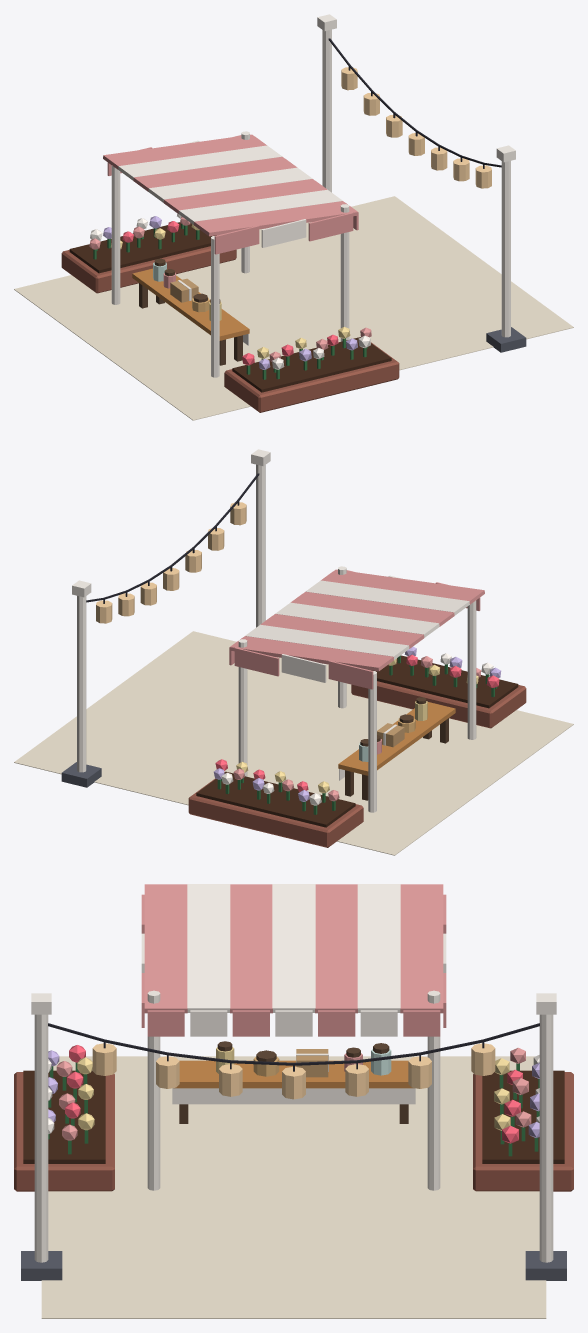
The model's file is CatCafe_Camp_Neighbourhood_Growth.glb.
3 renders of one model, top to bottom at view 1: azimuth 30°, elevation 25°; view 2: azimuth 150°, elevation 25°; view 3: azimuth 270°, elevation 25°, orthographic. The views are drawn at different scales.
Parts seen in each view (by area): view 1: CatCafe_Camp_Neighbourhood_Growth, CatCafe_Camp_Neighbourhood_Growth_000_Stall, CatCafe_Camp_Neighbourhood_Growth_002_FlowerBed, CatCafe_Camp_Neighbourhood_Growth_003_FlowerBed, CatCafe_Camp_Neighbourhood_Growth_001_Lanterns, CatCafe_Camp_Neighbourhood_Growth_001_Lanterns_Bulbs, CatCafe_Camp_Neighbourhood_Growth_002_FlowerBed_Decor, CatCafe_Camp_Neighbourhood_Growth_003_FlowerBed_Decor, CatCafe_Camp_Neighbourhood_Growth_000_Stall_Decor, CatCafe_Camp_Neighbourhood_Growth_001_Lanterns_Decor; view 2: CatCafe_Camp_Neighbourhood_Growth, CatCafe_Camp_Neighbourhood_Growth_000_Stall, CatCafe_Camp_Neighbourhood_Growth_003_FlowerBed, CatCafe_Camp_Neighbourhood_Growth_002_FlowerBed, CatCafe_Camp_Neighbourhood_Growth_001_Lanterns, CatCafe_Camp_Neighbourhood_Growth_001_Lanterns_Bulbs, CatCafe_Camp_Neighbourhood_Growth_003_FlowerBed_Decor, CatCafe_Camp_Neighbourhood_Growth_002_FlowerBed_Decor, CatCafe_Camp_Neighbourhood_Growth_000_Stall_Decor, CatCafe_Camp_Neighbourhood_Growth_001_Lanterns_Decor; view 3: CatCafe_Camp_Neighbourhood_Growth, CatCafe_Camp_Neighbourhood_Growth_000_Stall, CatCafe_Camp_Neighbourhood_Growth_001_Lanterns, CatCafe_Camp_Neighbourhood_Growth_002_FlowerBed, CatCafe_Camp_Neighbourhood_Growth_003_FlowerBed, CatCafe_Camp_Neighbourhood_Growth_001_Lanterns_Bulbs, CatCafe_Camp_Neighbourhood_Growth_003_FlowerBed_Decor, CatCafe_Camp_Neighbourhood_Growth_002_FlowerBed_Decor, CatCafe_Camp_Neighbourhood_Growth_000_Stall_Decor, CatCafe_Camp_Neighbourhood_Growth_001_Lanterns_Decor.
Part boxes in pixels (x1=…): CatCafe_Camp_Neighbourhood_Growth: x1=14, y1=196, x2=573, y2=420; CatCafe_Camp_Neighbourhood_Growth_000_Stall: x1=103, y1=131, x2=358, y2=377; CatCafe_Camp_Neighbourhood_Growth_002_FlowerBed: x1=224, y1=337, x2=399, y2=412; CatCafe_Camp_Neighbourhood_Growth_003_FlowerBed: x1=61, y1=222, x2=236, y2=293; CatCafe_Camp_Neighbourhood_Growth_001_Lanterns: x1=317, y1=14, x2=526, y2=352; CatCafe_Camp_Neighbourhood_Growth_001_Lanterns_Bulbs: x1=341, y1=67, x2=491, y2=188; CatCafe_Camp_Neighbourhood_Growth_002_FlowerBed_Decor: x1=242, y1=326, x2=371, y2=379; CatCafe_Camp_Neighbourhood_Growth_003_FlowerBed_Decor: x1=89, y1=213, x2=199, y2=259; CatCafe_Camp_Neighbourhood_Growth_000_Stall_Decor: x1=153, y1=258, x2=221, y2=320; CatCafe_Camp_Neighbourhood_Growth_001_Lanterns_Decor: x1=328, y1=38, x2=501, y2=168; CatCafe_Camp_Neighbourhood_Growth: x1=14, y1=631, x2=573, y2=855; CatCafe_Camp_Neighbourhood_Growth_000_Stall: x1=229, y1=566, x2=484, y2=812; CatCafe_Camp_Neighbourhood_Growth_003_FlowerBed: x1=188, y1=771, x2=363, y2=847; CatCafe_Camp_Neighbourhood_Growth_002_FlowerBed: x1=351, y1=655, x2=526, y2=728; CatCafe_Camp_Neighbourhood_Growth_001_Lanterns: x1=61, y1=449, x2=270, y2=787; CatCafe_Camp_Neighbourhood_Growth_001_Lanterns_Bulbs: x1=96, y1=502, x2=246, y2=623; CatCafe_Camp_Neighbourhood_Growth_003_FlowerBed_Decor: x1=213, y1=759, x2=339, y2=814; CatCafe_Camp_Neighbourhood_Growth_002_FlowerBed_Decor: x1=388, y1=646, x2=501, y2=697; CatCafe_Camp_Neighbourhood_Growth_000_Stall_Decor: x1=359, y1=697, x2=427, y2=761; CatCafe_Camp_Neighbourhood_Growth_001_Lanterns_Decor: x1=86, y1=473, x2=259, y2=603; CatCafe_Camp_Neighbourhood_Growth: x1=41, y1=1056, x2=546, y2=1318; CatCafe_Camp_Neighbourhood_Growth_000_Stall: x1=141, y1=884, x2=446, y2=1190; CatCafe_Camp_Neighbourhood_Growth_001_Lanterns: x1=21, y1=993, x2=566, y2=1280; CatCafe_Camp_Neighbourhood_Growth_002_FlowerBed: x1=14, y1=1070, x2=114, y2=1191; CatCafe_Camp_Neighbourhood_Growth_003_FlowerBed: x1=473, y1=1070, x2=573, y2=1191; CatCafe_Camp_Neighbourhood_Growth_001_Lanterns_Bulbs: x1=92, y1=1043, x2=495, y2=1099; CatCafe_Camp_Neighbourhood_Growth_003_FlowerBed_Decor: x1=494, y1=1047, x2=539, y2=1156; CatCafe_Camp_Neighbourhood_Growth_002_FlowerBed_Decor: x1=48, y1=1045, x2=94, y2=1154; CatCafe_Camp_Neighbourhood_Growth_000_Stall_Decor: x1=216, y1=1041, x2=391, y2=1077; CatCafe_Camp_Neighbourhood_Growth_001_Lanterns_Decor: x1=48, y1=1023, x2=539, y2=1071.
Bounding box in the file's own units: 13.5 × 6.6 × 12.2.
1 material, 1 textured.
